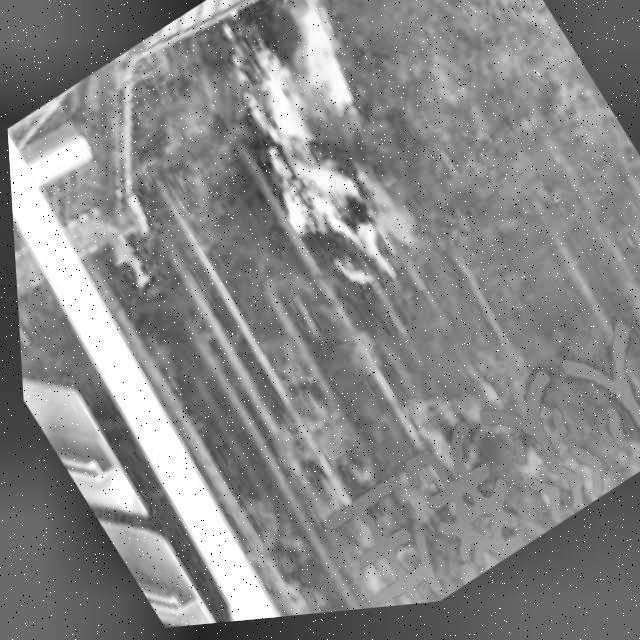Fire: (167, 0, 498, 352)
